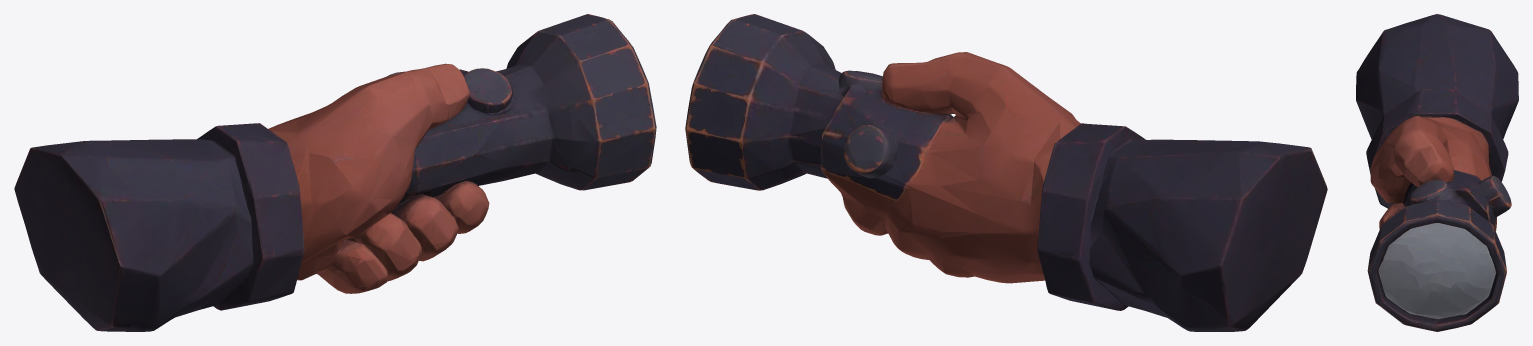
Rendered from light-hand.glb.
3 renders of one model, left to right at view 1: azimuth 30°, elevation 25°; view 2: azimuth 150°, elevation 25°; view 3: azimuth 270°, elevation 25°, orthographic. The views are drawn at different scales.
Bounding box in the file's own units: 1.9 × 0.67 × 0.638.
1 material, 1 textured.
